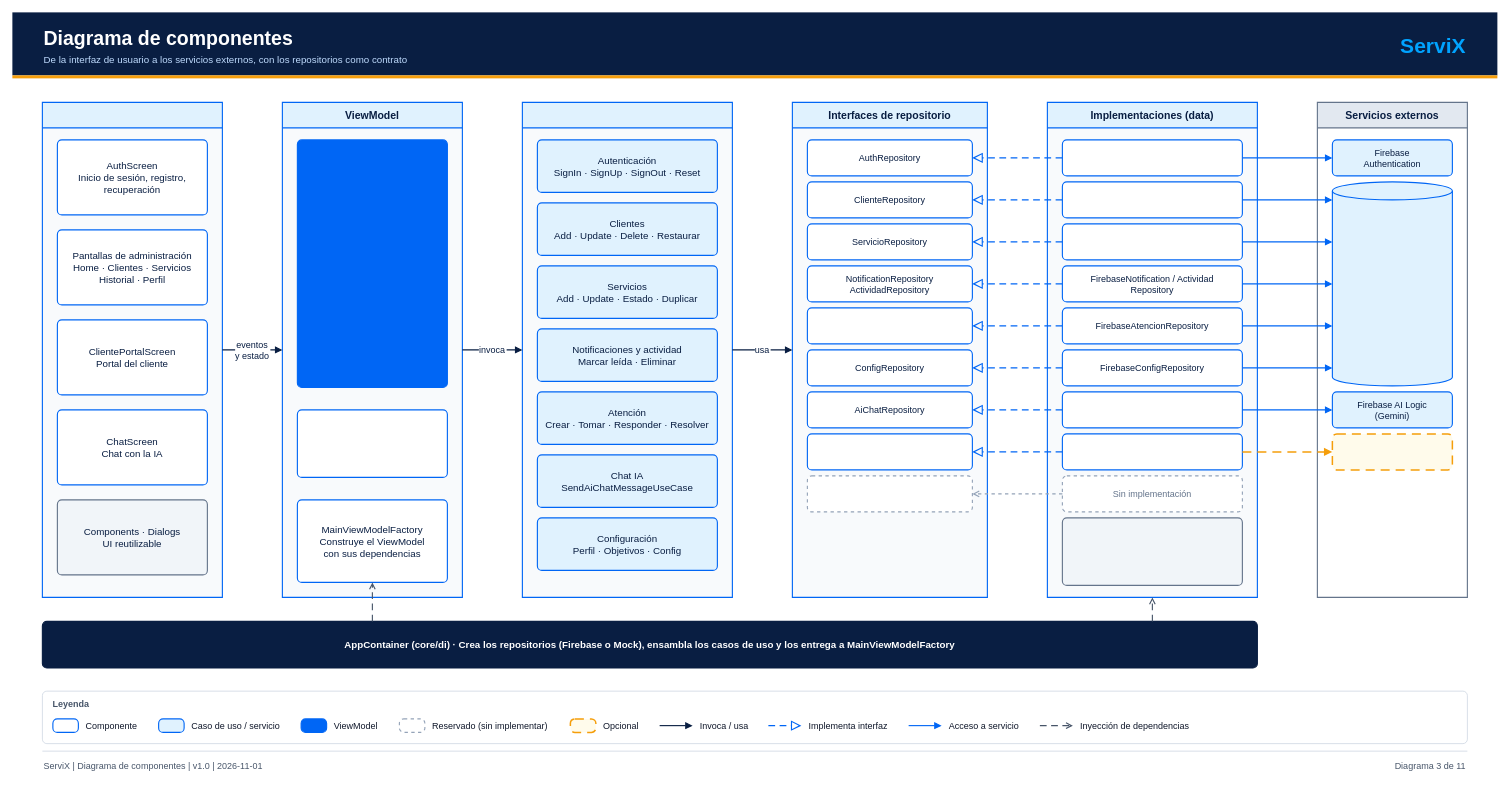
The diagram is 1510 pixels wide and 788 high, and some of its shapes have lost their labels. Each missing label, with the box of its shape:
AtencionRepository: (806, 307, 973, 344)
AuthUiState Estado de autenticación: (296, 409, 448, 478)
Casos de uso (domain): (521, 101, 733, 598)
Cloud Firestore usuarios/{uid}/… solicitudes_atencion: (1331, 181, 1453, 386)
FirebaseAuthRepository: (1061, 139, 1243, 176)
FirebaseClienteRepository: (1061, 181, 1243, 218)
FirebaseServicioRepository: (1061, 223, 1243, 260)
GeminiAiChatRepository: (1061, 391, 1243, 428)
MainViewModel Estado de la UI y orquestación de los casos de uso: (296, 139, 448, 388)
Make (opcional): (1331, 433, 1453, 470)
MakeWebhookRepository: (806, 433, 973, 470)
Mock*Repository Mismas interfaces; respaldo si Firebase no se inicializa: (1061, 517, 1243, 586)
OkHttpMakeWebhookRepository: (1061, 433, 1243, 470)
Presentación: (41, 101, 223, 598)
RetellAI / N8nWebhook (reservados): (806, 475, 973, 512)
